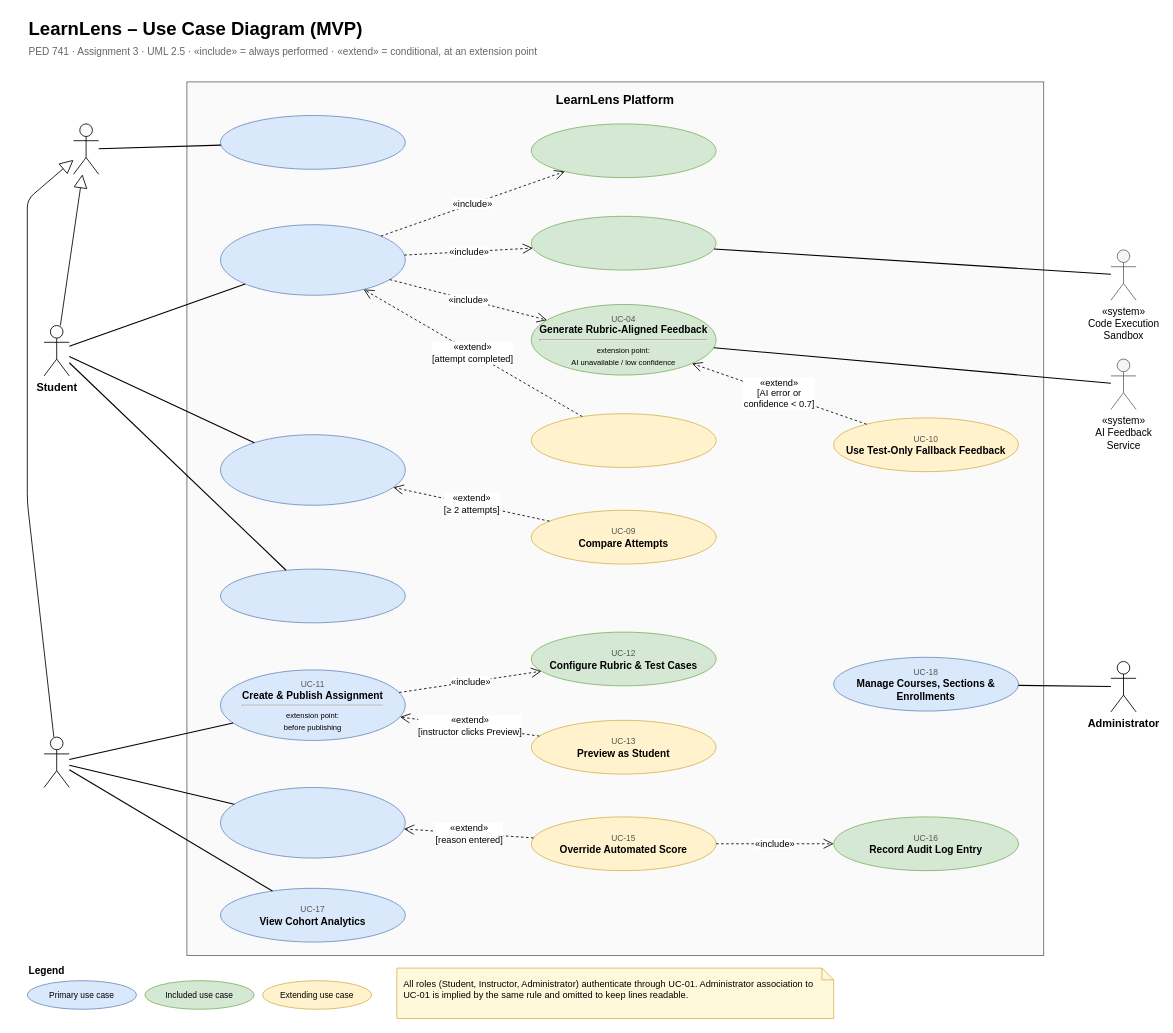
This 1173x1033 diagram has some shape labels left out. The shapes that lost their labels are listed below. From the top down, each one's box as (x1, y1, x2, y2) in pixels, then its label:
(73, 123, 99, 174): User (abstract)
(220, 115, 405, 169): UC-01 Sign In
(530, 123, 716, 178): UC-08 Verify Enrollment & Deadline
(220, 224, 405, 295): UC-02 Submit Code Attempt extension point: attempt completed
(530, 215, 716, 270): UC-03 Execute Tests in Sandbox
(530, 413, 716, 467): UC-05 Answer Reinforcement Question
(220, 434, 405, 505): UC-06 View Attempt History extension point: two or more attempts
(220, 568, 405, 623): UC-07 View Progress Dashboard
(43, 736, 69, 788): Instructor
(220, 787, 405, 858): UC-14 Review Submission extension point: result disputed
